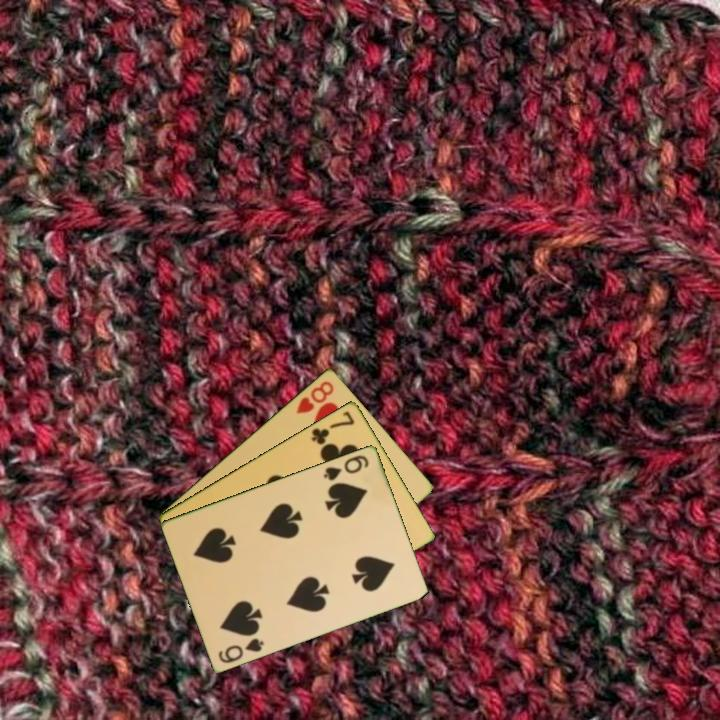6s: (320, 451, 372, 483), (215, 634, 267, 666)
7c: (308, 407, 358, 447)
8h: (293, 377, 337, 416)
